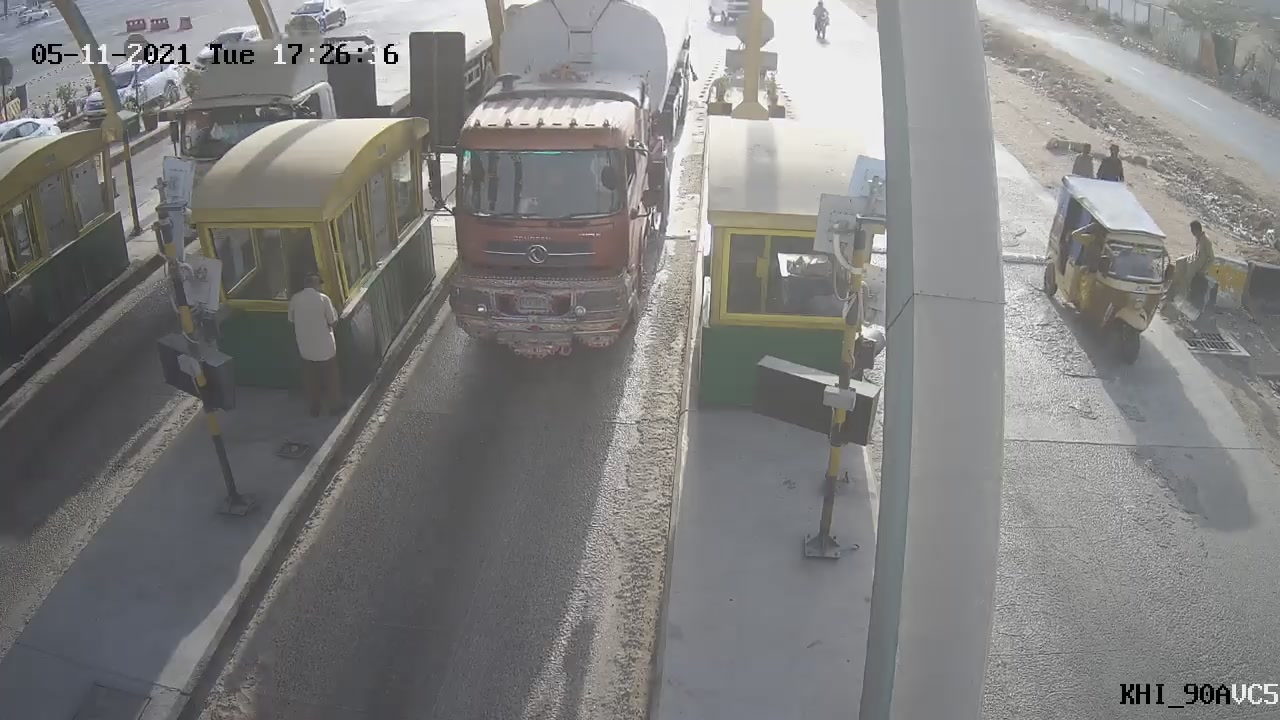F6: (406, 1, 708, 386)
